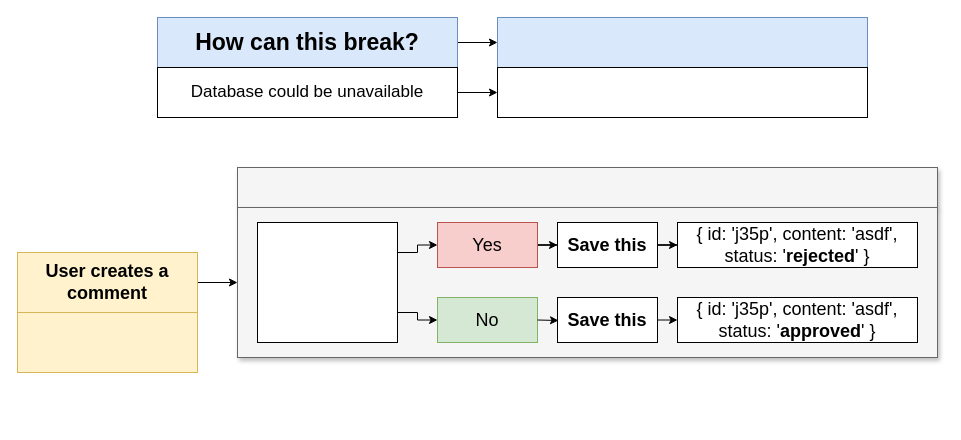
Image size: 961x440. Some labels were removed from this diagram. Here are the shapes that lost their labels. From the top down, the centre of each, then its label:
At (682,42): "What are the consequences?".
At (682,92): "We return error status to user, comment not saved".
At (588,188): "Monolith Blog".
At (327,282): "Does the comment contain the word 'orange'?".
At (107,342): "{ content: {} }".
